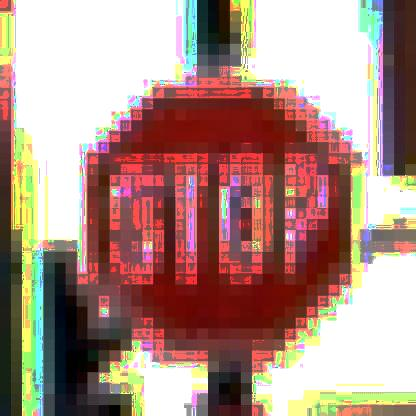Stop Sign: (74, 77, 365, 366)
